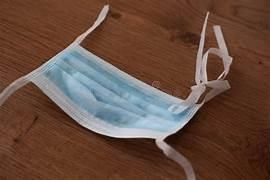Mask: (0, 5, 231, 178)
